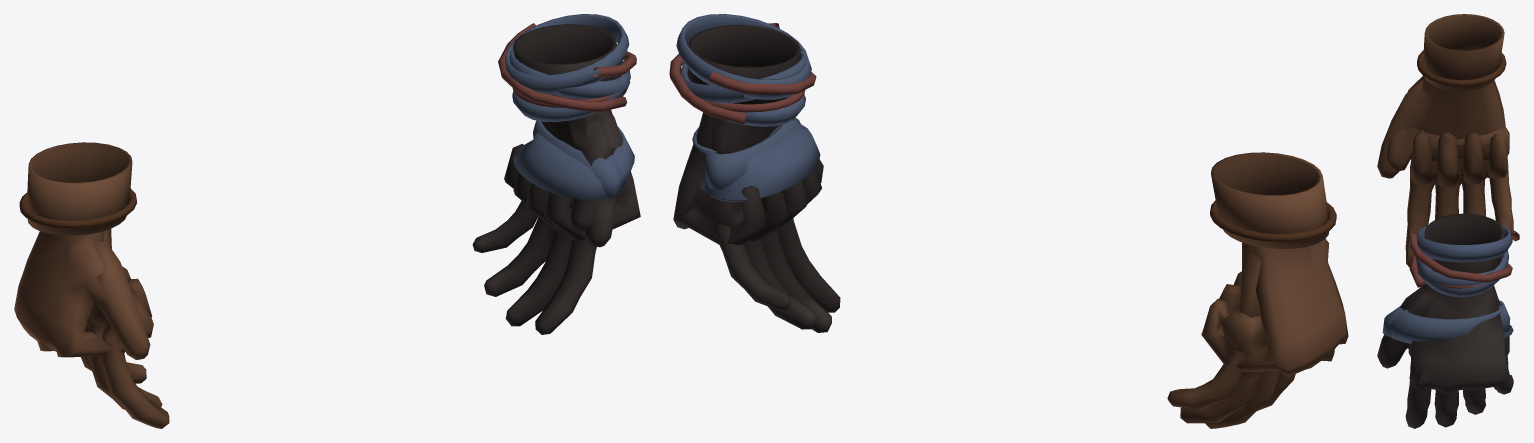
The model's file is g_ranger.glb.
3 views of the same model, side by side, from view 1: azimuth 30°, elevation 25°; view 2: azimuth 150°, elevation 25°; view 3: azimuth 270°, elevation 25° (orthographic). The views are drawn at different scales.
Parts seen in each view (by area): view 1: ArmL_HandOpen, ArmL_Gauntlet, ArmR_Hand, ArmR_Gauntlet, ArmL_Hand, ArmR_HandOpen; view 2: ArmR_Hand, ArmL_Gauntlet, ArmL_Hand, ArmL_HandOpen, ArmR_Gauntlet, ArmR_HandOpen; view 3: ArmL_Hand, ArmR_HandOpen, ArmL_Gauntlet, ArmR_Hand, ArmR_Gauntlet, ArmL_HandOpen.
Boxes of the visible parts, x1=… form: ArmL_HandOpen: x1=472, y1=114, x2=621, y2=334; ArmL_Gauntlet: x1=498, y1=14, x2=636, y2=122; ArmR_Hand: x1=14, y1=231, x2=153, y2=357; ArmR_Gauntlet: x1=19, y1=142, x2=136, y2=235; ArmL_Hand: x1=504, y1=109, x2=640, y2=241; ArmR_HandOpen: x1=81, y1=229, x2=169, y2=428; ArmR_Hand: x1=1201, y1=239, x2=1348, y2=376; ArmL_Gauntlet: x1=669, y1=14, x2=816, y2=126; ArmL_Hand: x1=673, y1=65, x2=823, y2=245; ArmL_HandOpen: x1=705, y1=117, x2=840, y2=332; ArmR_Gauntlet: x1=1210, y1=152, x2=1336, y2=248; ArmR_HandOpen: x1=1167, y1=242, x2=1295, y2=428; ArmL_Hand: x1=1390, y1=282, x2=1513, y2=395; ArmR_HandOpen: x1=1377, y1=78, x2=1513, y2=267; ArmL_Gauntlet: x1=1408, y1=213, x2=1519, y2=297; ArmR_Hand: x1=1386, y1=49, x2=1509, y2=187; ArmR_Gauntlet: x1=1417, y1=14, x2=1506, y2=91; ArmL_HandOpen: x1=1377, y1=285, x2=1513, y2=428.
Bounding box in the file's own units: 0.579 × 0.2472 × 0.1406.
